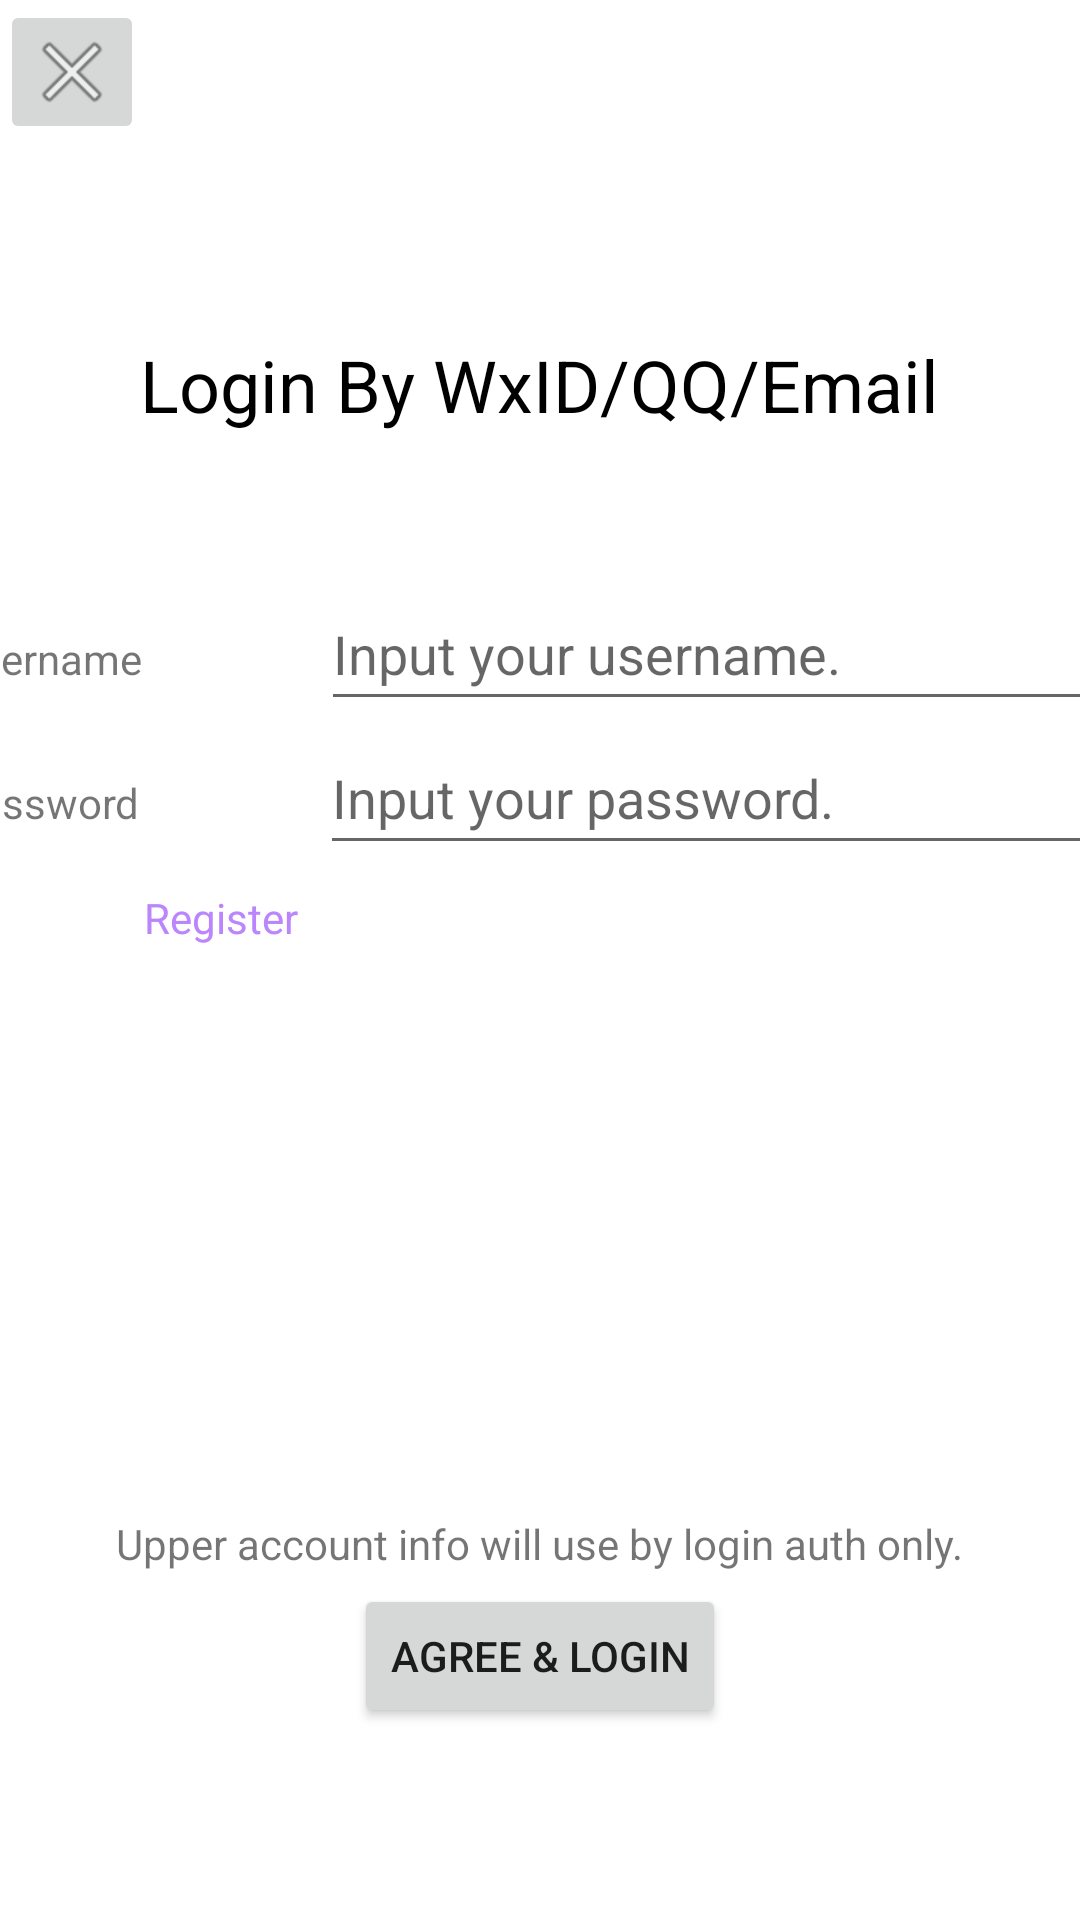

Locate icon controls on the screen. Image size 1080px×1920px, boxes as [left=x1, top=y1, right=x2, bottom=y2].
close clear cancel: [left=12, top=18, right=132, bottom=126]
